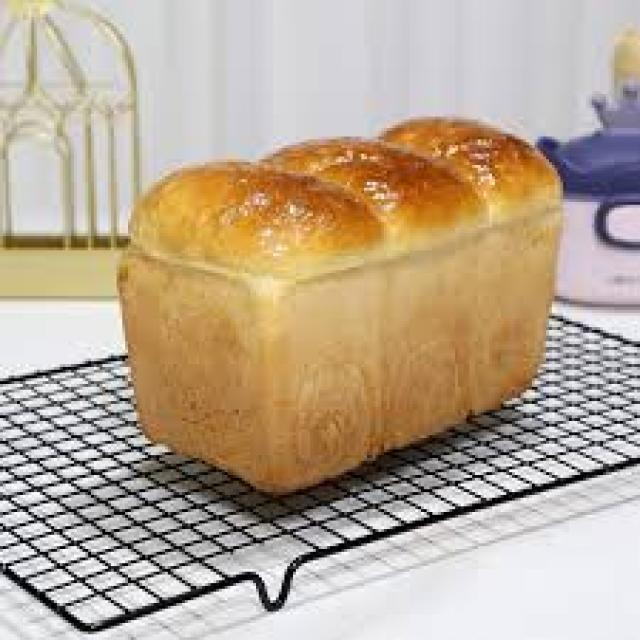bread: (119, 115, 562, 492)
